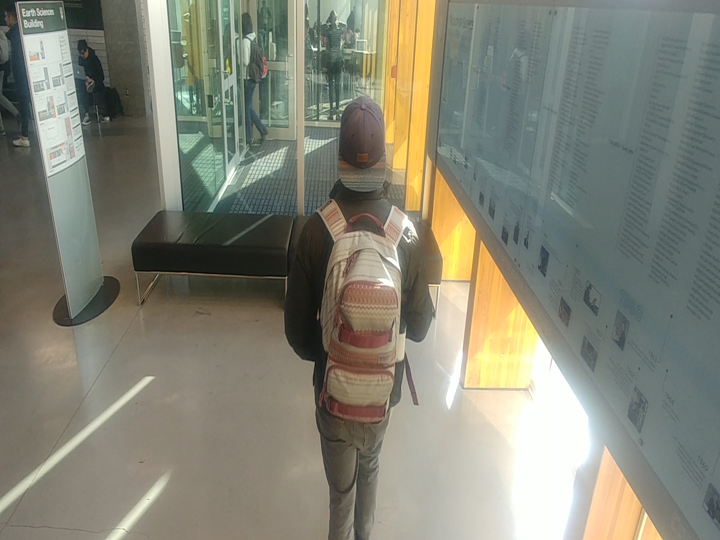face: (327, 88, 397, 200), (72, 31, 92, 62), (322, 7, 344, 33), (239, 11, 258, 39), (0, 3, 20, 29)
human: (279, 85, 438, 540), (1, 3, 34, 152), (239, 3, 270, 151), (70, 35, 115, 125), (316, 5, 349, 123)
